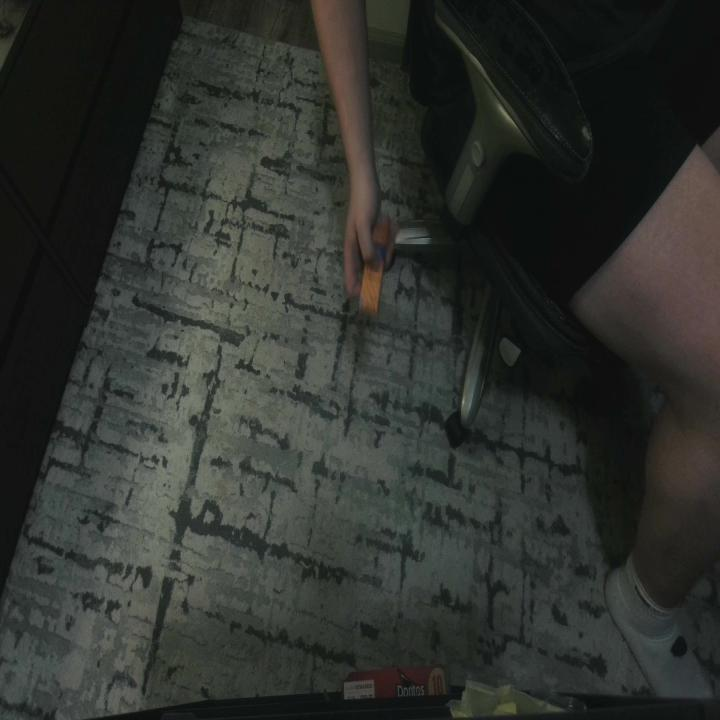Crackers: (357, 205, 395, 333)
